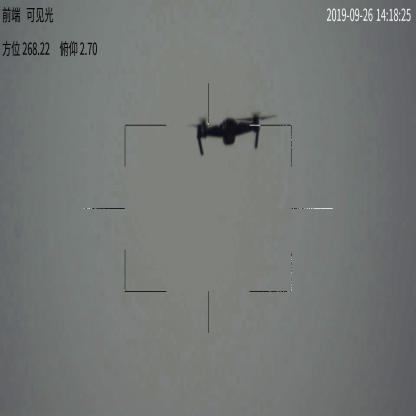uav: (184, 110, 278, 155)
